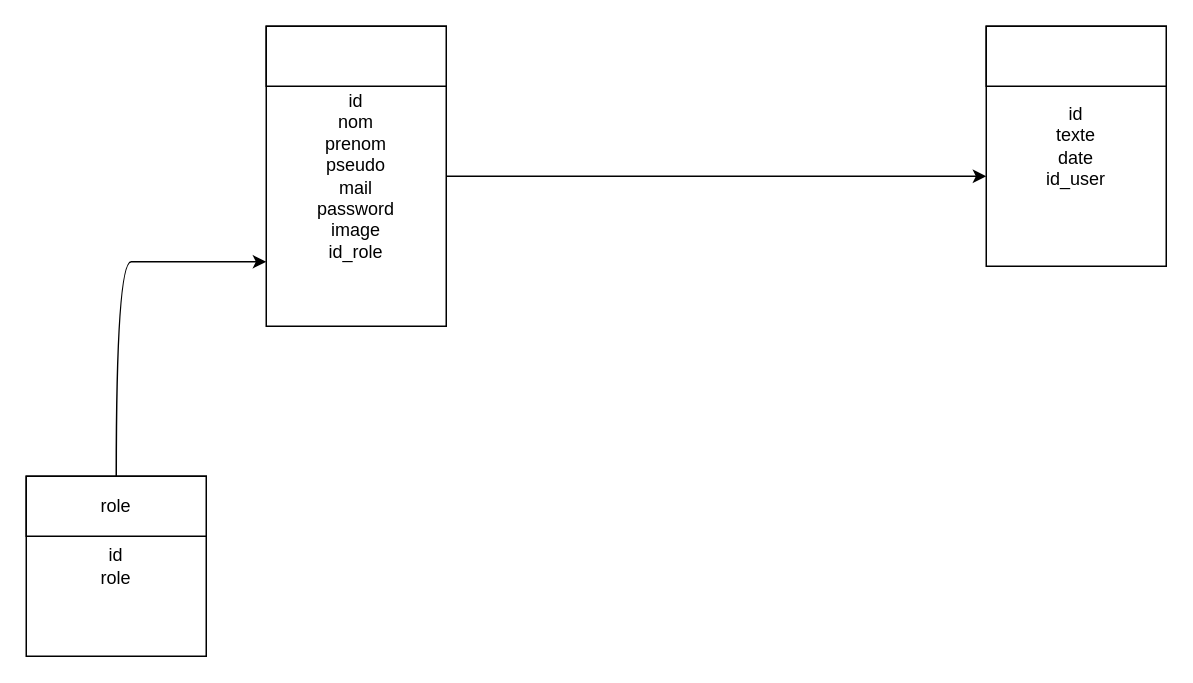
Some shapes in this 1193 by 683 pixel diagram are drawn without their labels. Each missing label, with the centre of its shape:
messages: the point at 1075,55
users: the point at 355,55
